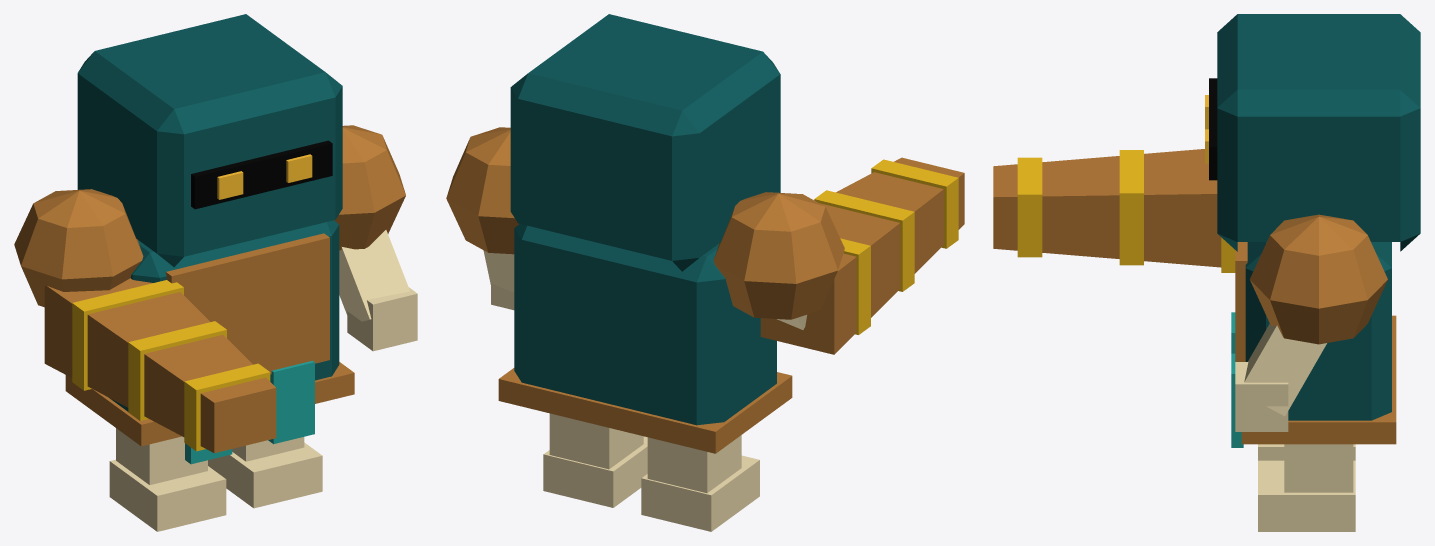
Rendered from breacher_r5.glb.
3 views of the same model, side by side, from view 1: azimuth 30°, elevation 25°; view 2: azimuth 150°, elevation 25°; view 3: azimuth 270°, elevation 25° (orthographic). The views are drawn at different scales.
Visible parts, largest first — view 1: breacher_r5_mesh; view 2: breacher_r5_mesh; view 3: breacher_r5_mesh.
Part boxes in pixels (x1=…): breacher_r5_mesh: x1=14, y1=14, x2=417, y2=531; breacher_r5_mesh: x1=446, y1=14, x2=964, y2=531; breacher_r5_mesh: x1=993, y1=14, x2=1420, y2=531.
Size of the model in its own units: 1.85 by 2 by 1.76.
1 material, 1 textured.
